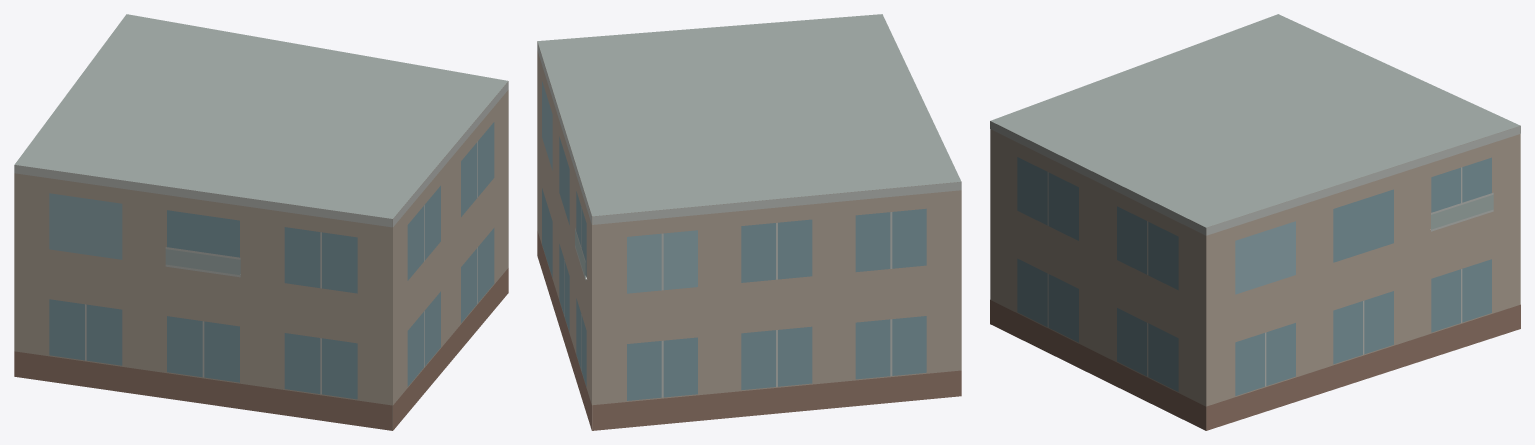
Rendered from survey-upis-32592210.glb.
3 views of the same model, side by side, from view 1: azimuth 30°, elevation 25°; view 2: azimuth 150°, elevation 25°; view 3: azimuth 270°, elevation 25° (orthographic). The views are drawn at different scales.
Visible parts, largest first — view 1: survey-upis-32592210.tmp; view 2: survey-upis-32592210.tmp; view 3: survey-upis-32592210.tmp.
Boxes of the visible parts, left/top/right/bottom form: survey-upis-32592210.tmp: left=14, top=14, right=508, bottom=430; survey-upis-32592210.tmp: left=537, top=14, right=961, bottom=430; survey-upis-32592210.tmp: left=990, top=14, right=1520, bottom=430.
Bounding box in the file's own units: 13.77 × 6.1 × 14.45.
